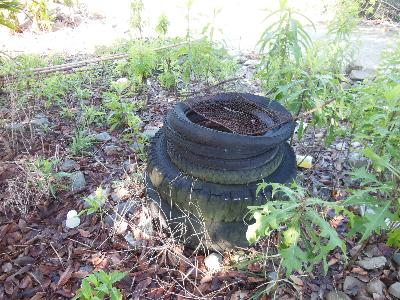tire: (146, 125, 300, 222), (165, 92, 298, 159), (165, 138, 286, 185)
